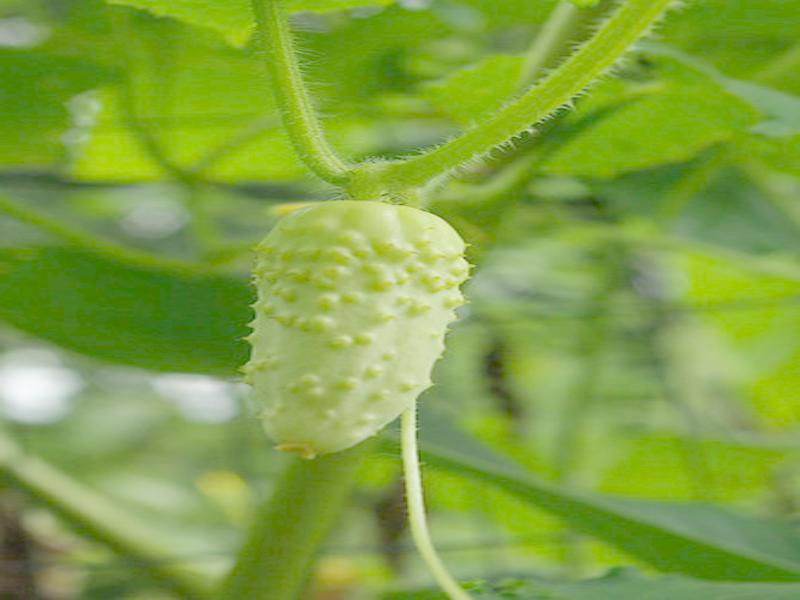Cucumber: (248, 199, 470, 461)
